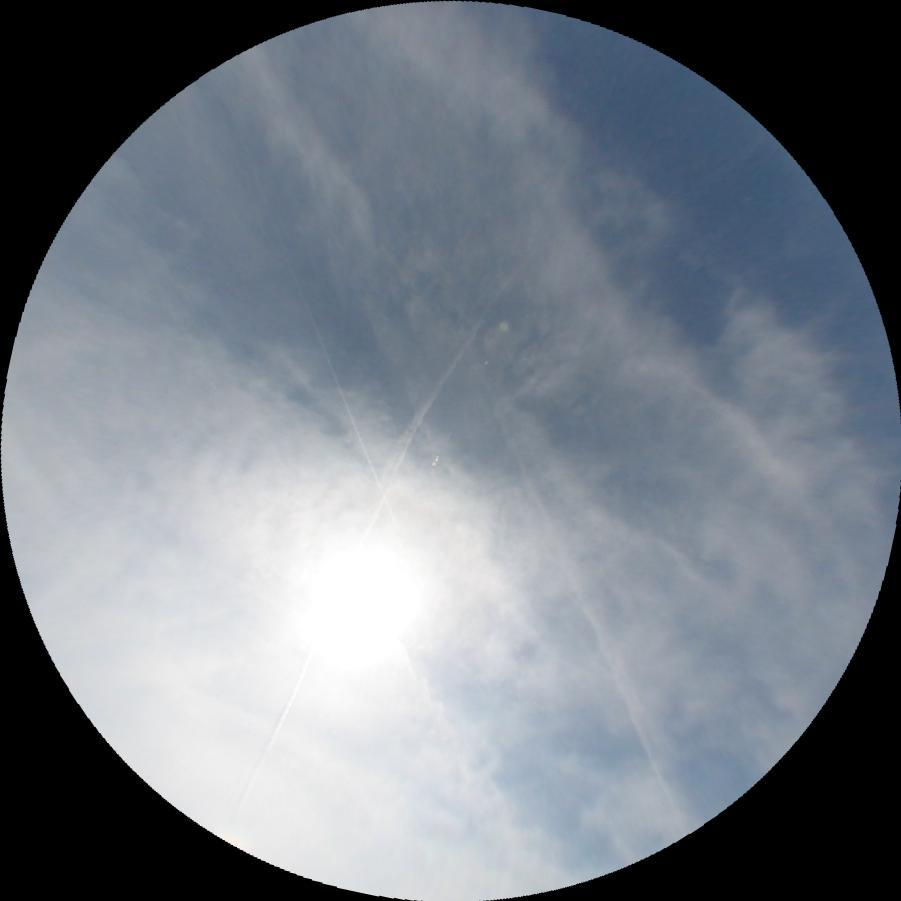contrail old: (218, 263, 513, 807), (457, 337, 696, 837)
contrail young: (276, 243, 399, 526)
sun: (279, 523, 434, 684)
